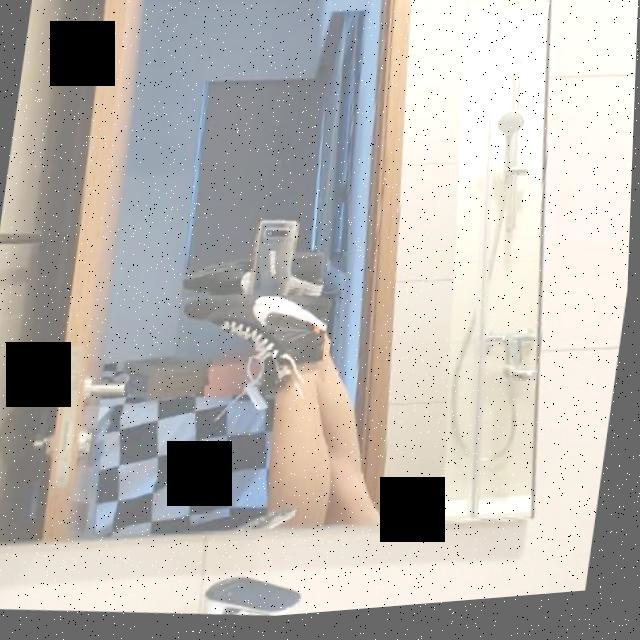shoe: (174, 288, 340, 406), (185, 243, 332, 312)
